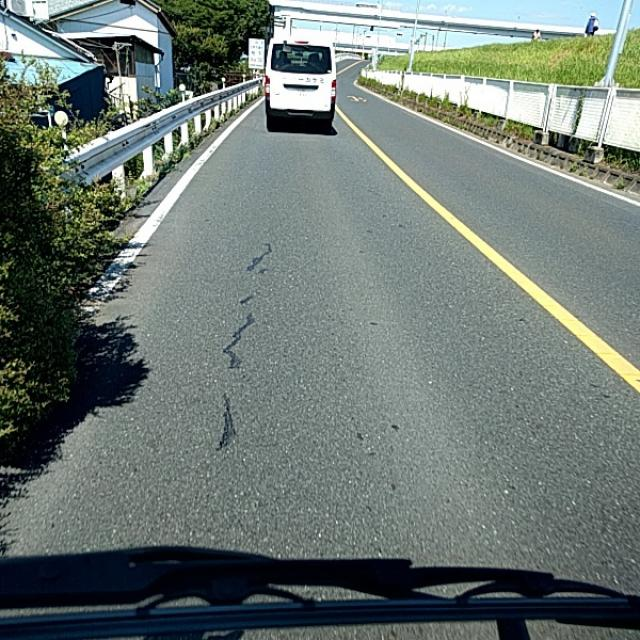pothole: (205, 321, 244, 444)
